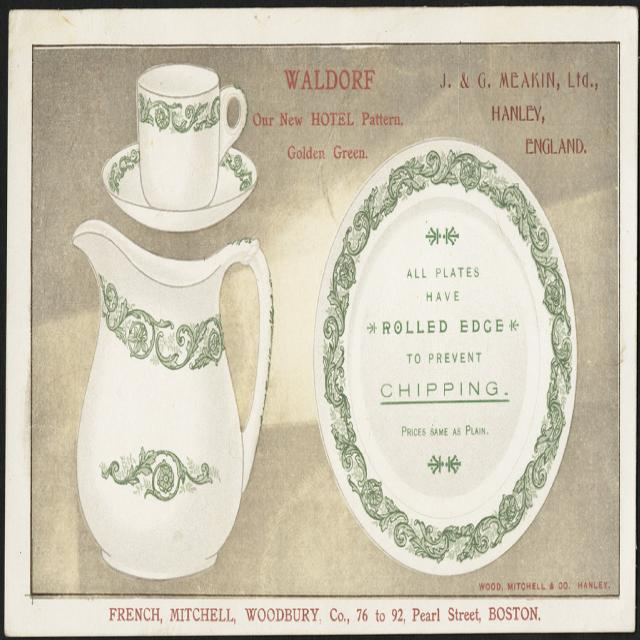non-organic waste: (309, 126, 561, 579)
